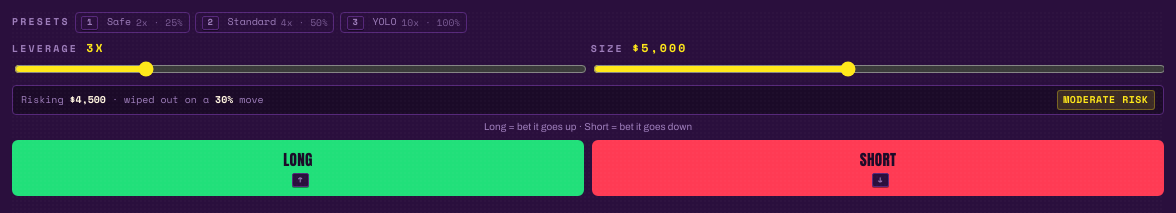
Test: TradeDeck.jsx › clicking preset updates leverage and size
Click the button "3 YOLO 10x · 100%" at (403,23), box [340,12,467,33]
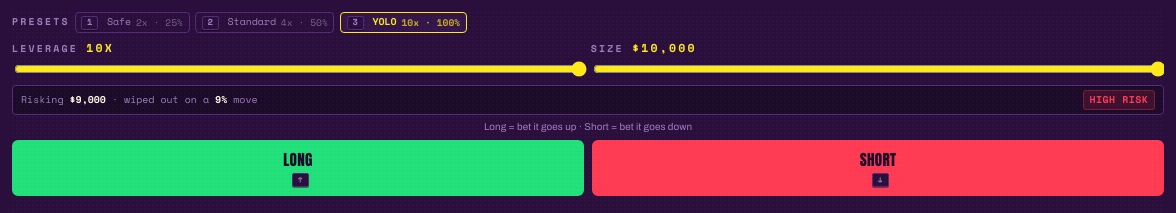
Result: the text "10x" is shown at [86,38,114,56]
Result: the text "High Risk" is shown at [1083,90,1155,110]
